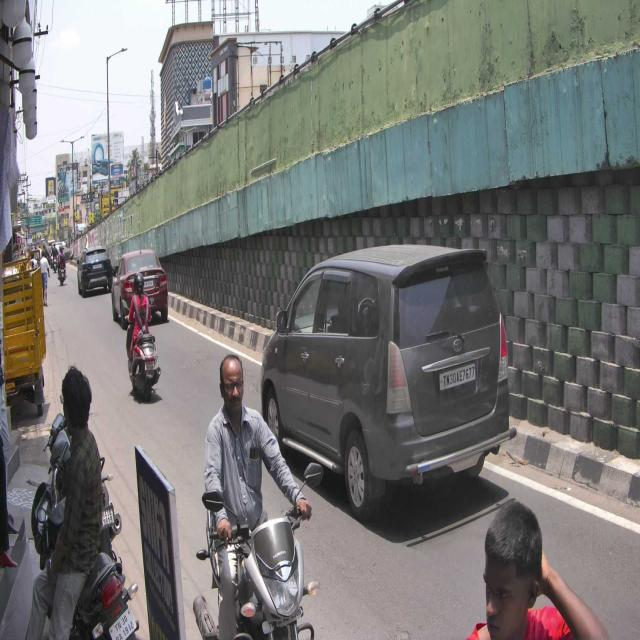single_rider: (193, 353, 323, 640)
